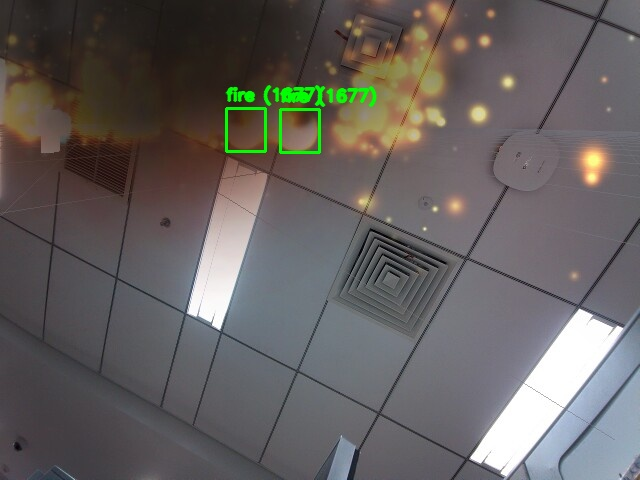fire: (280, 109, 319, 152), (226, 108, 265, 151)
